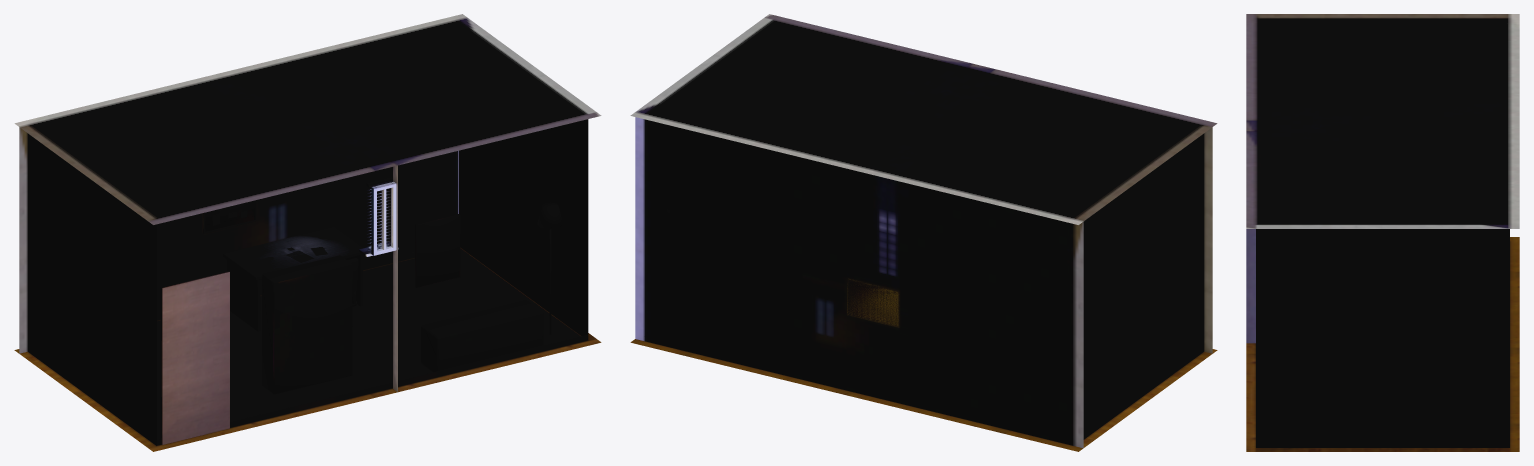
The model's file is room-half.glb.
The picture shows the model from 3 angles, left to right: view 1: azimuth 30°, elevation 25°; view 2: azimuth 150°, elevation 25°; view 3: azimuth 270°, elevation 25°; orthographic projection.
Parts seen in each view (by area): view 1: Room_Shell, Room_Visitor, Room_Desk, Room_Window, Room_Pinboard; view 2: Room_Shell, Room_Pinboard; view 3: Room_Shell.
Part boxes in pixels (x1,y1,x2,y2): Room_Shell: (14, 14, 601, 451); Room_Visitor: (160, 202, 563, 444); Room_Desk: (223, 226, 363, 331); Room_Window: (359, 177, 398, 256); Room_Pinboard: (203, 200, 256, 233); Room_Shell: (630, 14, 1217, 451); Room_Pinboard: (847, 278, 899, 327); Room_Shell: (1246, 14, 1519, 451).
Size of the model in its own units: 6.29 by 3.04 by 3.38.
Materials: 1 (1 with a texture image).
